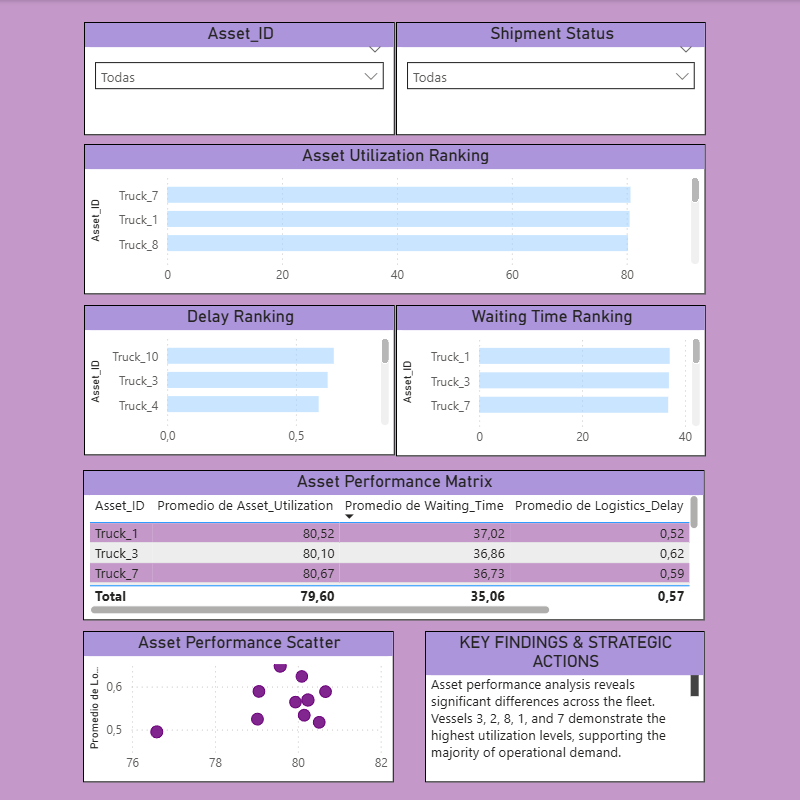

This screenshot's page, from the dashboard's own definition file:
{"tool":"powerbi","page":{"name":"Asset Performance Analysis","canvas":[800,800],"ordinal":2},"visuals":[{"type":"slicer","fields":{"Values":["tbl_logistics.Asset_ID"]},"box":[84.9,22.1,310.3,112.8],"z":0},{"type":"slicer","fields":{"Values":["tbl_logistics.Shipment_Status"]},"box":[396.2,22.1,309.3,112.8],"z":1000},{"type":"barChart","title":"Asset Utilization Ranking","fields":{"Category":["tbl_logistics.Asset_ID"],"Y":["Avg(tbl_logistics.Asset_Utilization)"]},"box":[84.9,143.6,619.6,149.8],"z":2000},{"type":"barChart","title":"Delay Ranking","fields":{"Category":["tbl_logistics.Asset_ID"],"Y":["Avg(tbl_logistics.Logistics_Delay)"]},"box":[84.9,304.1,310.3,149.8],"z":3000},{"type":"barChart","title":"Waiting Time Ranking","fields":{"Category":["tbl_logistics.Asset_ID"],"Y":["Avg(tbl_logistics.Waiting_Time)"]},"box":[396.2,304.1,309.3,150.8],"z":4000},{"type":"tableEx","title":"Asset Performance Matrix","fields":{"Values":["tbl_logistics.Asset_ID","Avg(tbl_logistics.Asset_Utilization)","Avg(tbl_logistics.Waiting_Time)","Avg(tbl_logistics.Logistics_Delay)","Avg(tbl_logistics.Inventory_Level)"]},"box":[83.6,468.5,619.6,150.1],"z":5000},{"type":"scatterChart","title":"Asset Performance Scatter","fields":{"X":["Avg(tbl_logistics.Asset_Utilization)"],"Y":["Avg(tbl_logistics.Logistics_Delay)"],"Category":["tbl_logistics.Asset_ID"],"Size":["Avg(tbl_logistics.Inventory_Level)"]},"box":[83.8,629.4,309.9,150.8],"z":6000},{"type":"textbox","title":"KEY FINDINGS & STRATEGIC ACTIONS","box":[424.8,629.4,278.8,150.8],"z":7000}]}

Visuals, with their boxes in screenshot pixels (x1, y1, x2, y2), scaled from the page's 800x800 canvas onto the 800x800 screenshot:
slicer - tbl_logistics.Asset_ID: box=[85, 22, 395, 135]
slicer - tbl_logistics.Shipment_Status: box=[396, 22, 706, 135]
"Asset Utilization Ranking" barChart: box=[85, 144, 704, 293]
"Delay Ranking" barChart: box=[85, 304, 395, 454]
"Waiting Time Ranking" barChart: box=[396, 304, 706, 455]
"Asset Performance Matrix" tableEx: box=[84, 468, 703, 619]
"Asset Performance Scatter" scatterChart: box=[84, 629, 394, 780]
"KEY FINDINGS & STRATEGIC ACTIONS" textbox: box=[425, 629, 704, 780]
